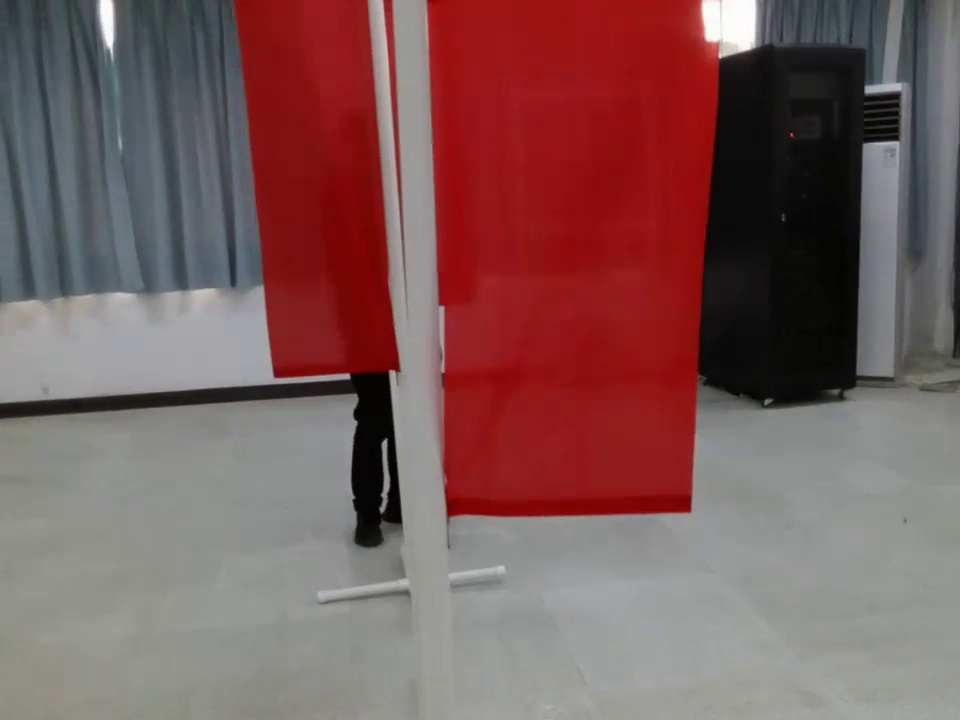qi: (390, 4, 706, 560)
